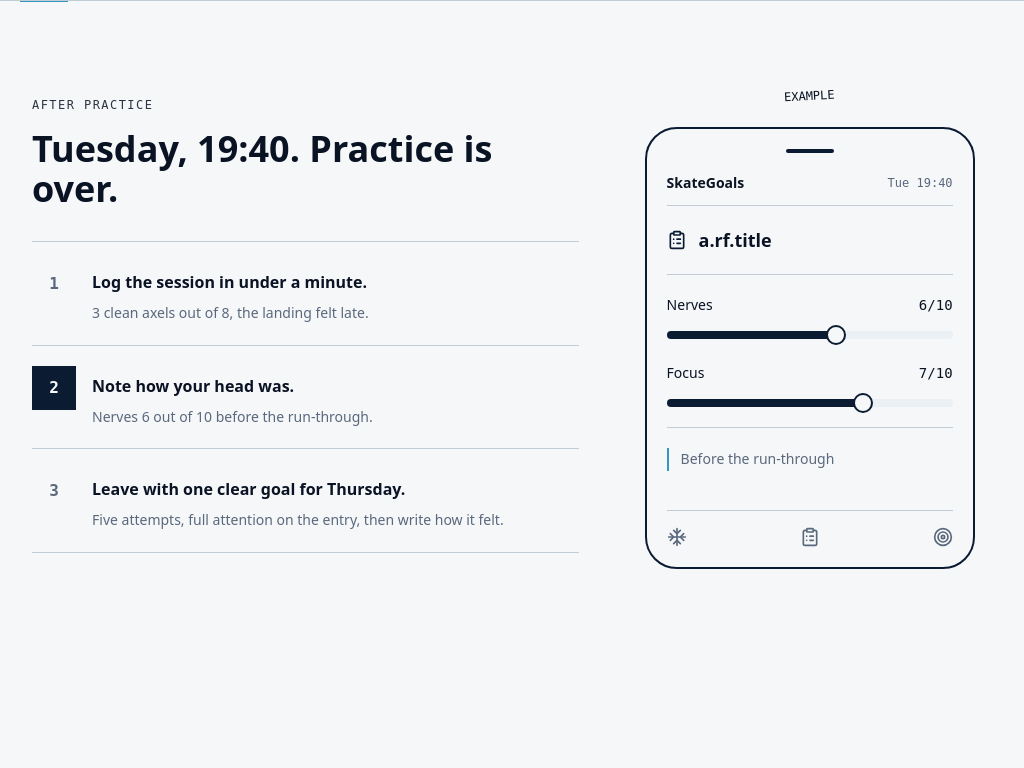
Test: sample phone states › pauses automatic advancement after a numbered moment is selected
Click the button "3": (54, 491) [32, 469, 76, 513]
Wait 20000 ms
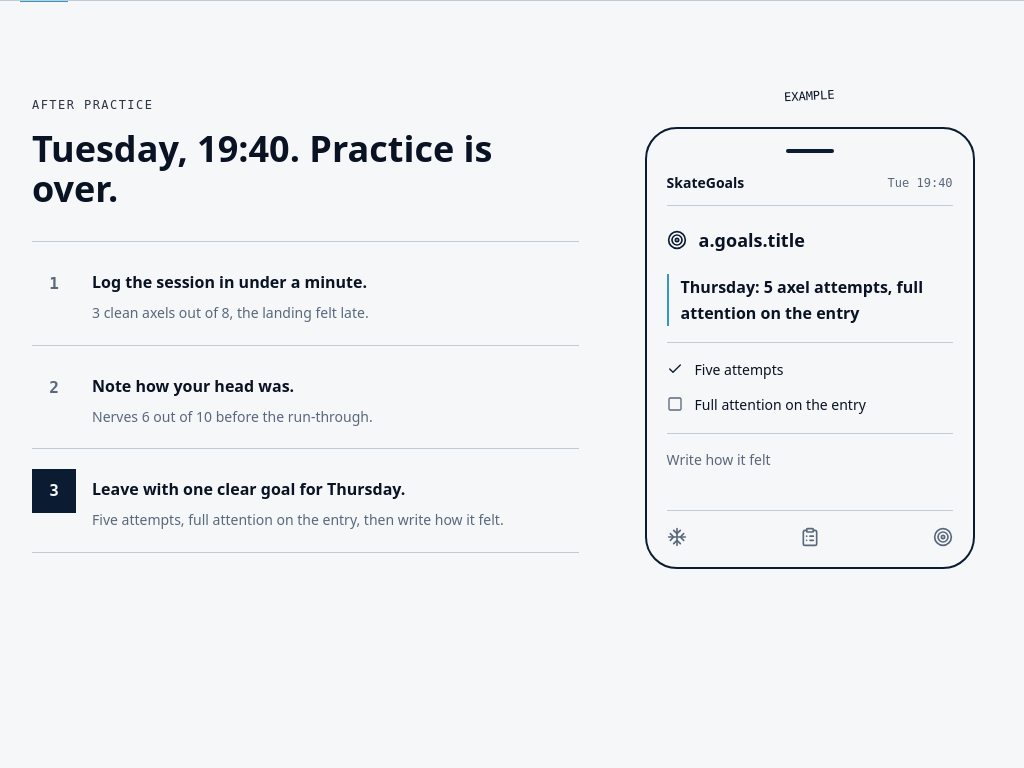
Expected: the button "3" is pressed, [32, 469, 76, 513]
